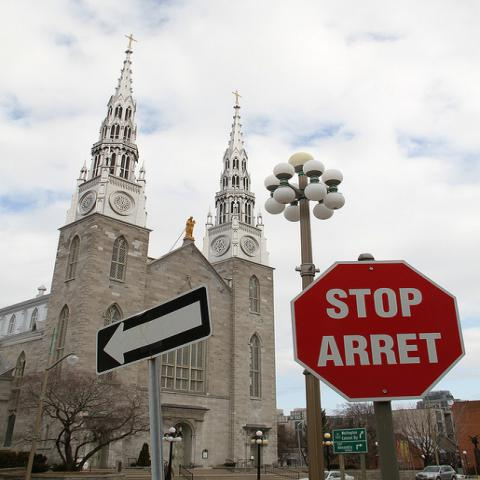car: (416, 464, 458, 480), (296, 471, 356, 479)
